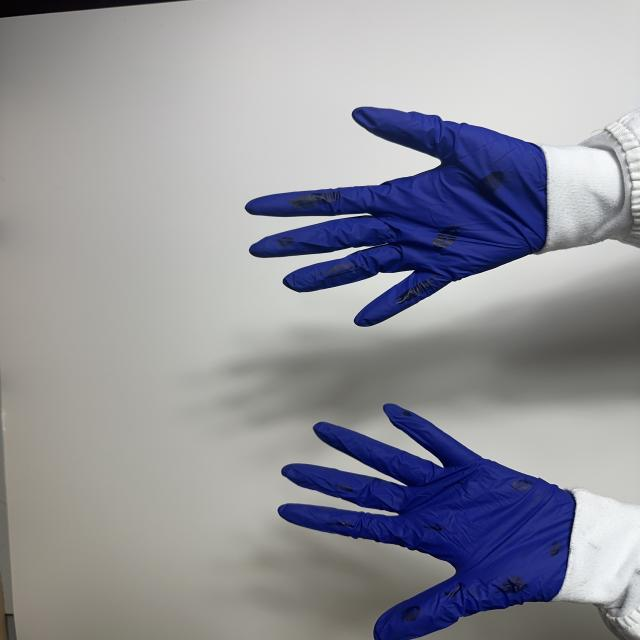gloves_contaminated: (278, 404, 575, 640), (247, 107, 550, 326)
